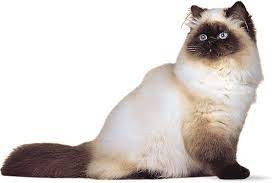cat: (180, 1, 275, 91)
